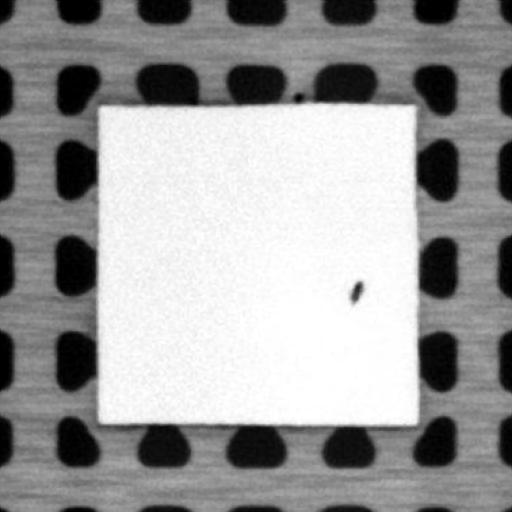DIE_INK: (344, 277, 364, 304)
